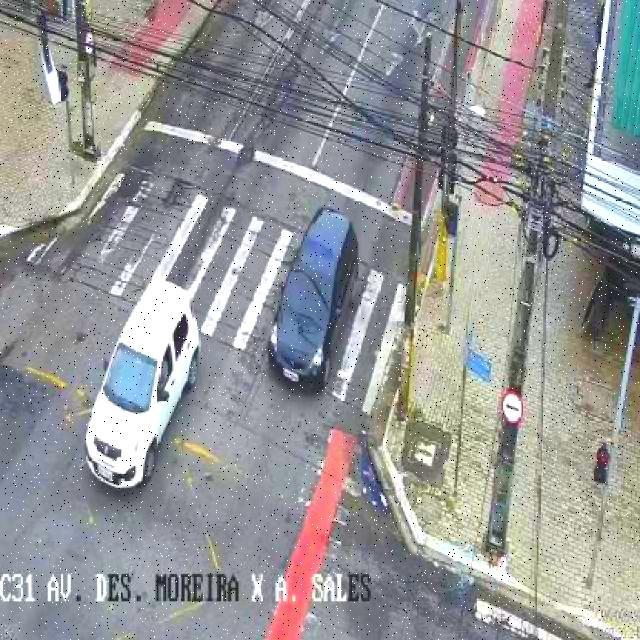Car: (80, 279, 201, 495), (267, 205, 360, 392)
